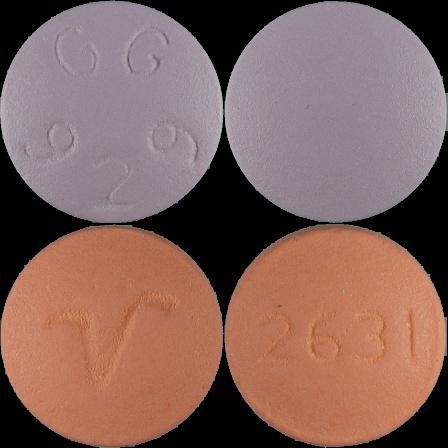68258-7001: (0, 0, 224, 224)
